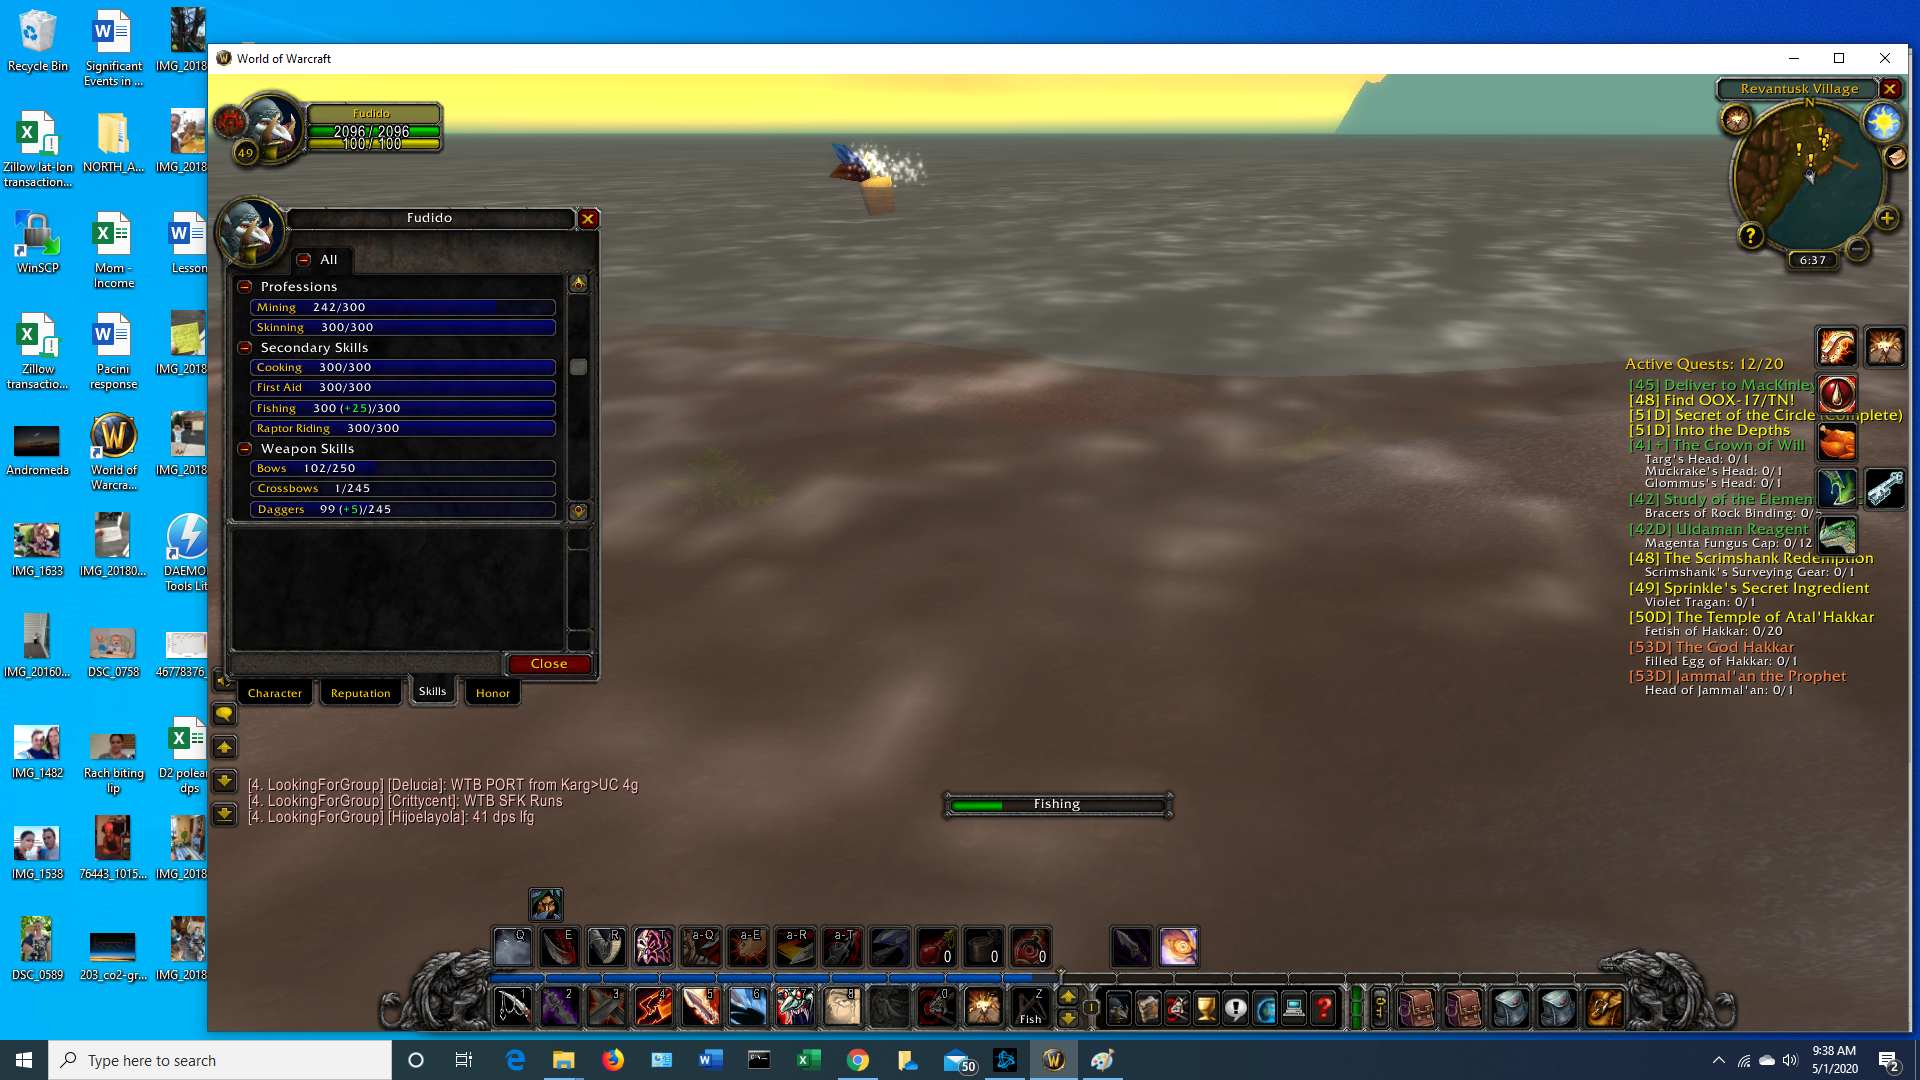bobble: (824, 137, 910, 222)
